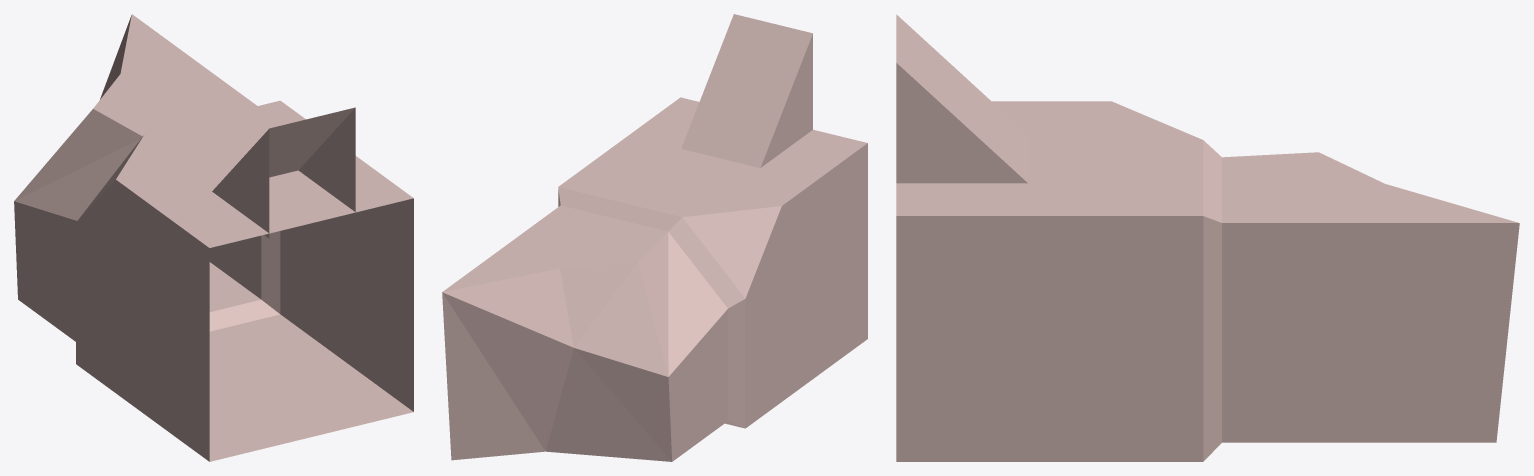
3 views of the same model, side by side, from view 1: azimuth 30°, elevation 25°; view 2: azimuth 150°, elevation 25°; view 3: azimuth 270°, elevation 25° (orthographic). The views are drawn at different scales.
Visible parts, largest first — view 1: Object29; view 2: Object29; view 3: Object29.
Part boxes in pixels (bbox=[...]): Object29: bbox=[14, 14, 413, 461]; Object29: bbox=[442, 14, 867, 461]; Object29: bbox=[896, 14, 1519, 461].
Bounding box in the file's own units: 13699 × 20433 × 31480.
